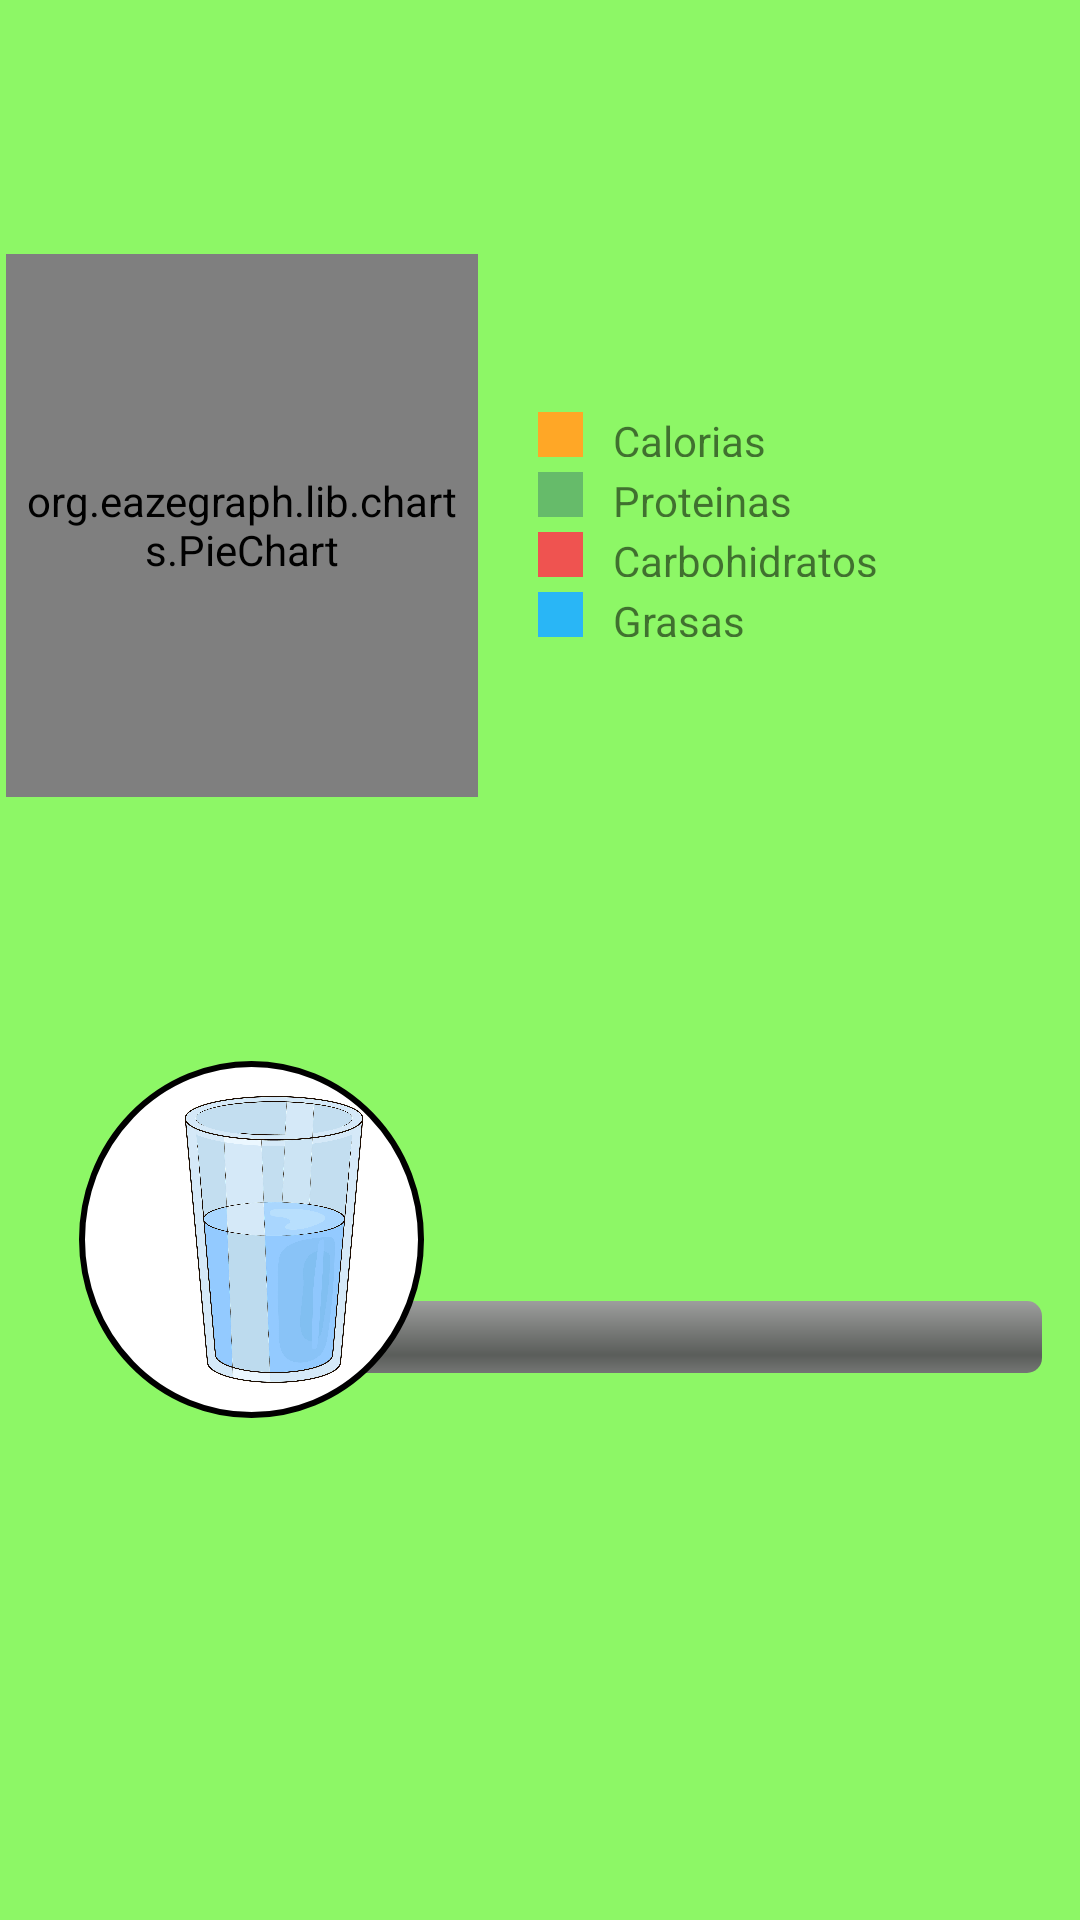

Named icons in this screenshot (1080px×1920px) and their centers, point (x, y):
vaso: point (251, 1239)
